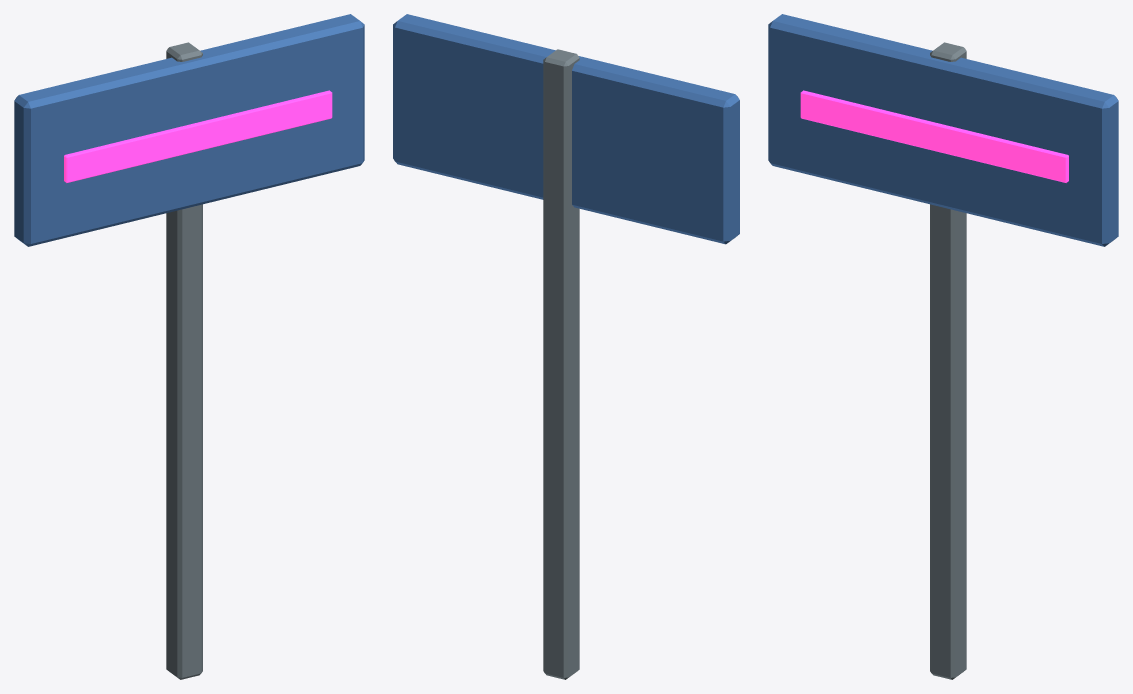
The model's file is street_002_seed100.glb.
3 views of the same model, side by side, from view 1: azimuth 30°, elevation 25°; view 2: azimuth 150°, elevation 25°; view 3: azimuth 330°, elevation 25° (orthographic).
Parts seen in each view (by area): view 1: street_002_seed100; view 2: street_002_seed100; view 3: street_002_seed100.
Boxes of the visible parts, left/top/right/bottom form: street_002_seed100: left=14, top=14, right=364, bottom=679; street_002_seed100: left=393, top=14, right=739, bottom=679; street_002_seed100: left=768, top=14, right=1118, bottom=679.
Size of the model in its own units: 1.6 by 2.8 by 0.1825.
